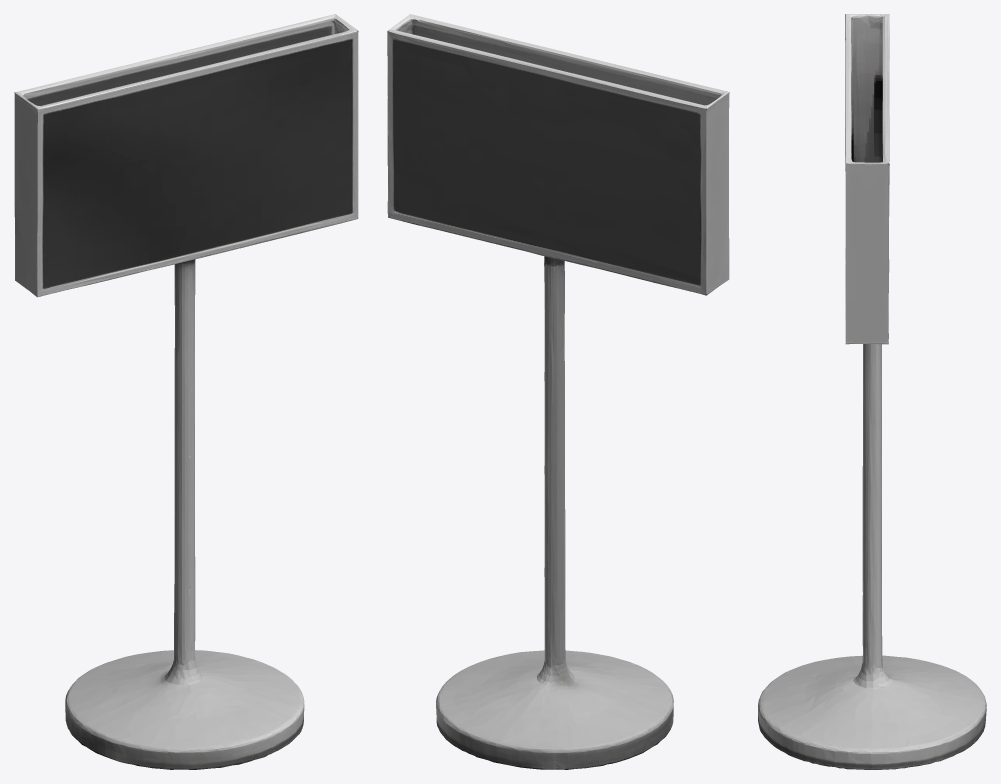
3 renders of one model, left to right at view 1: azimuth 30°, elevation 25°; view 2: azimuth 150°, elevation 25°; view 3: azimuth 270°, elevation 25°, orthographic. The views are drawn at different scales.
Visible parts, largest first — view 1: world; view 2: world; view 3: world.
Part boxes in pixels (<box>): world: <box>14,14,358,769</box>; world: <box>387,14,729,769</box>; world: <box>758,14,986,769</box>.
Bounding box in the file's own units: 0.5085 × 1 × 0.3276.
1 material, 1 textured.
